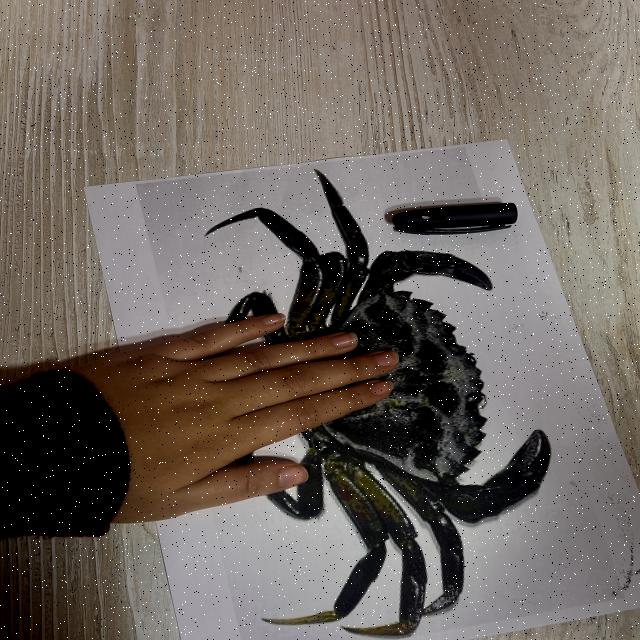European_Green_Crab: (158, 153, 629, 640), (0, 0, 0, 0)
